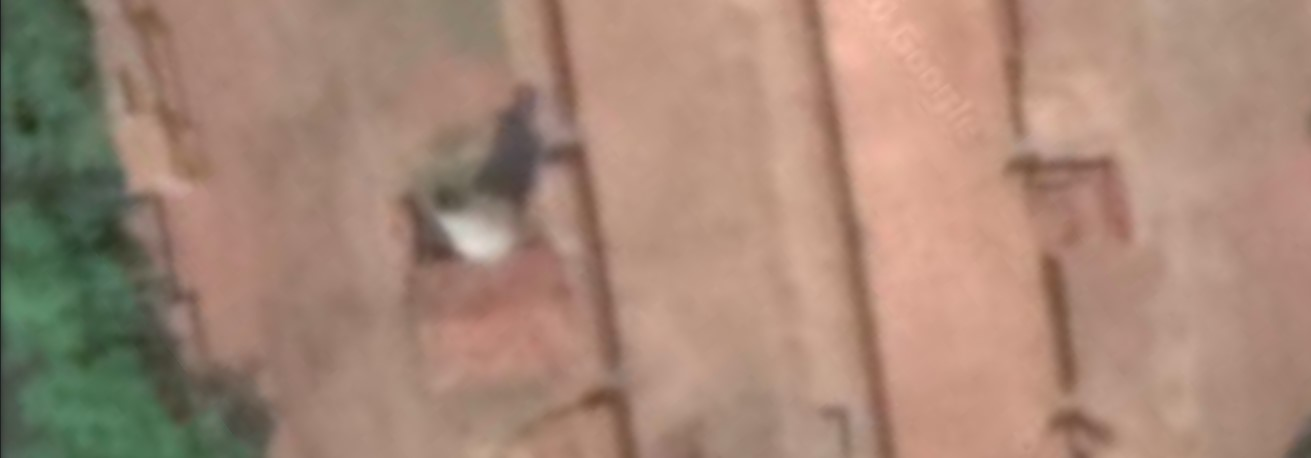kiln: (196, 22, 839, 360)
